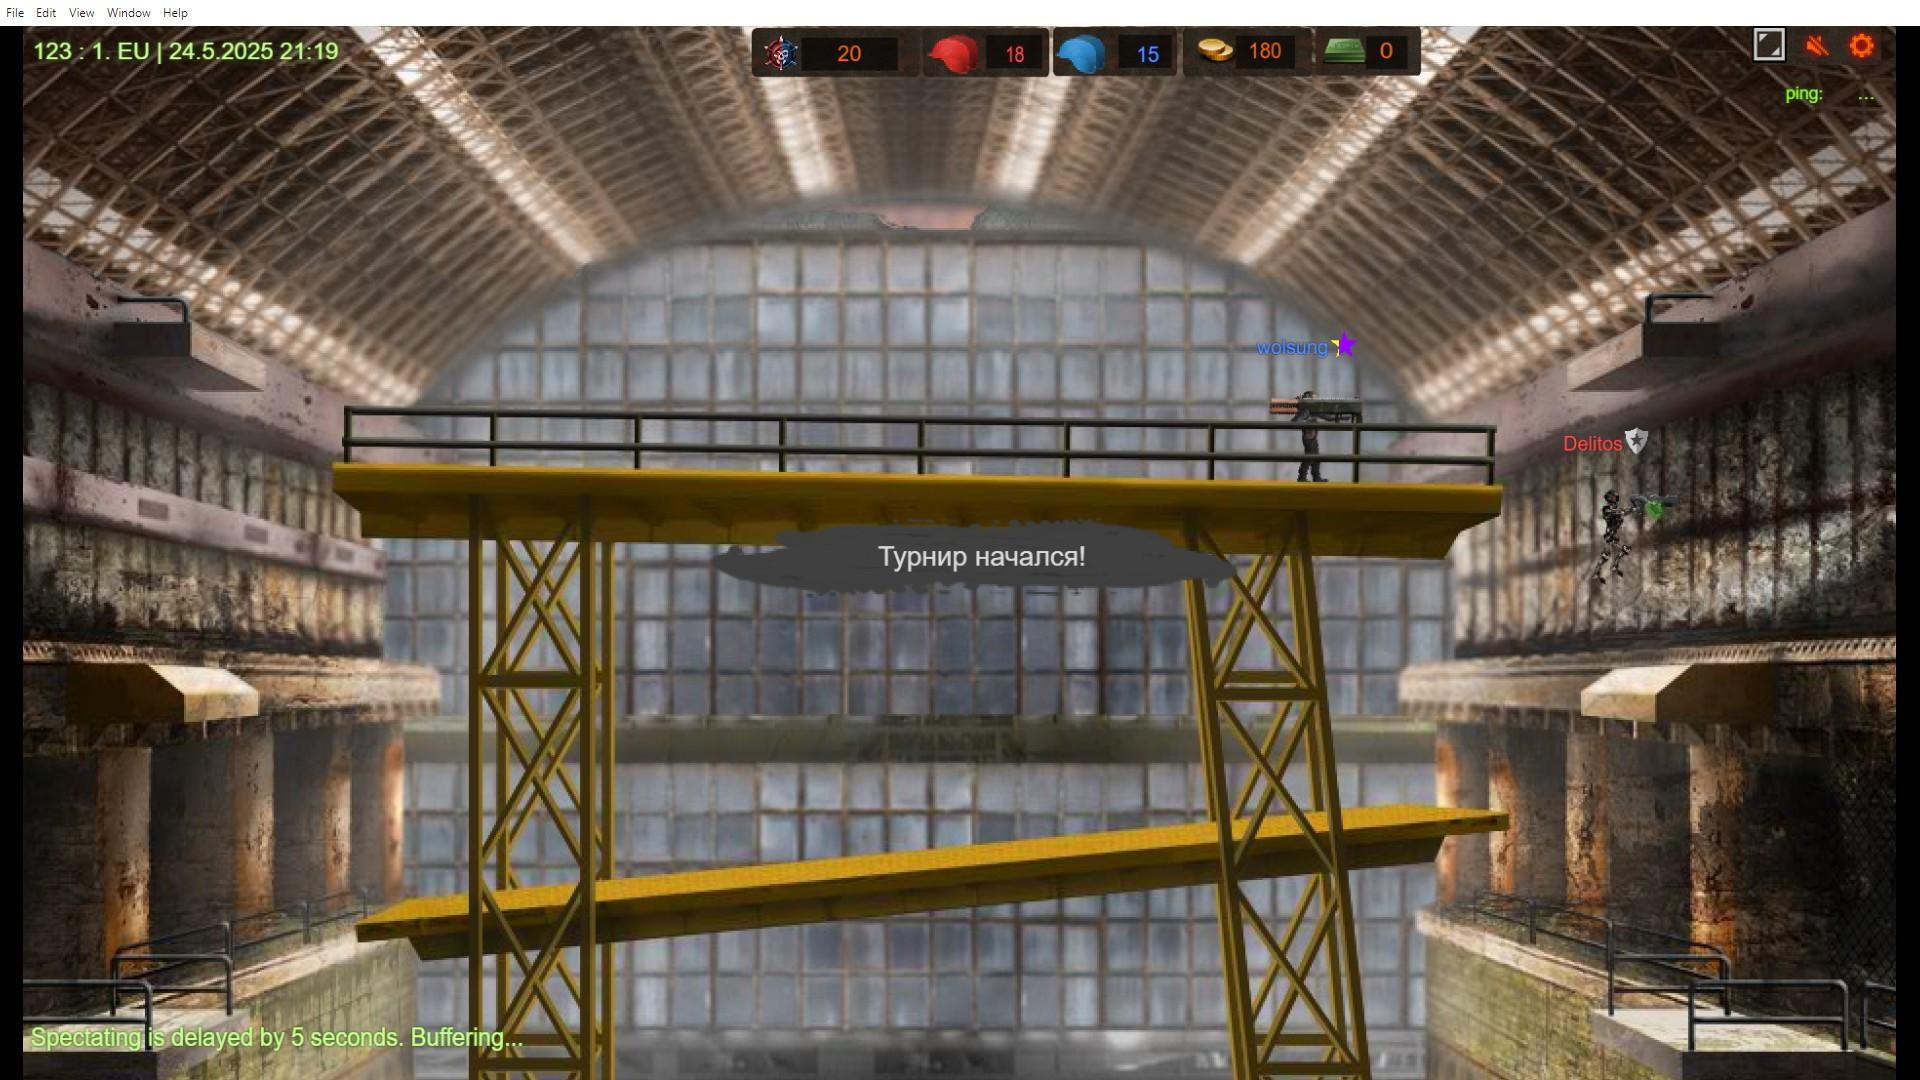enemy: (1292, 390, 1327, 487), (1601, 492, 1625, 582)
